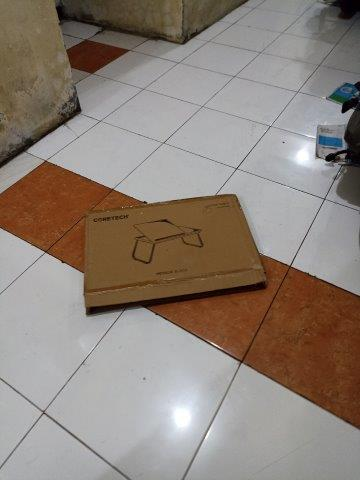kardus: (85, 196, 264, 312)
